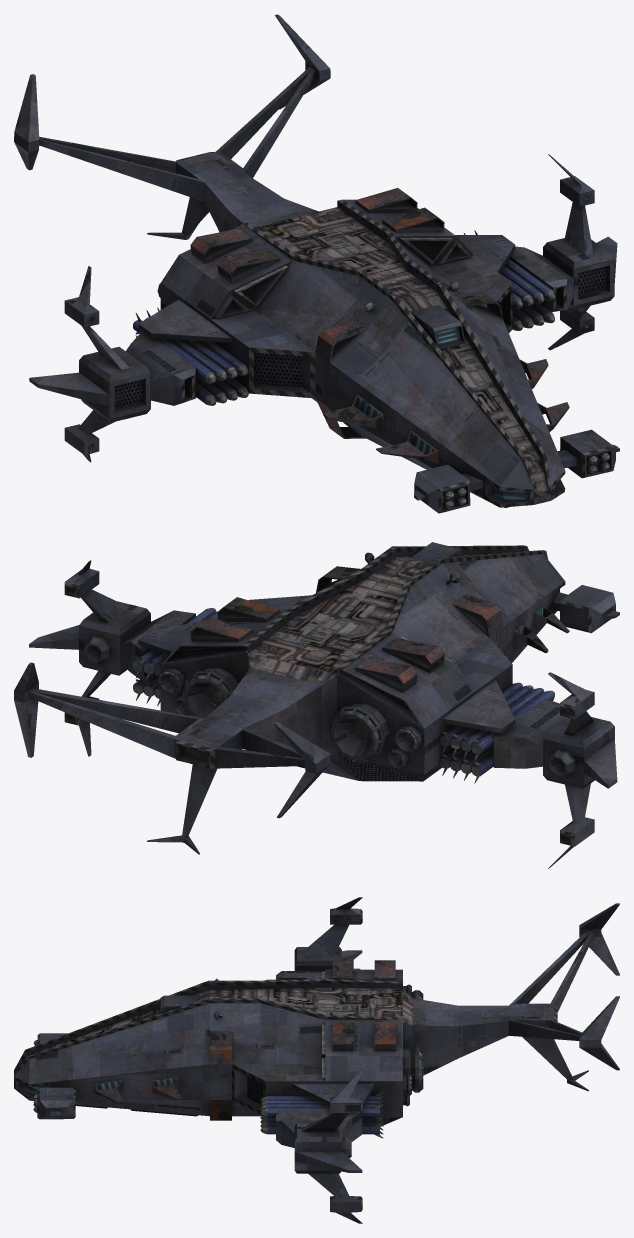
Rendered from Enemy_1.FBX.
3 renders of one model, top to bottom at view 1: azimuth 30°, elevation 25°; view 2: azimuth 150°, elevation 25°; view 3: azimuth 270°, elevation 25°, orthographic. The views are drawn at different scales.
Visible parts, largest first — view 1: Object01; view 2: Object01; view 3: Object01.
Part boxes in pixels (x1,y1,x2,y2): Object01: [14, 14, 619, 513]; Object01: [14, 542, 619, 868]; Object01: [14, 897, 619, 1223].
Bounding box in the file's own units: 61.48 × 24.26 × 71.56.
1 material, 1 textured.
